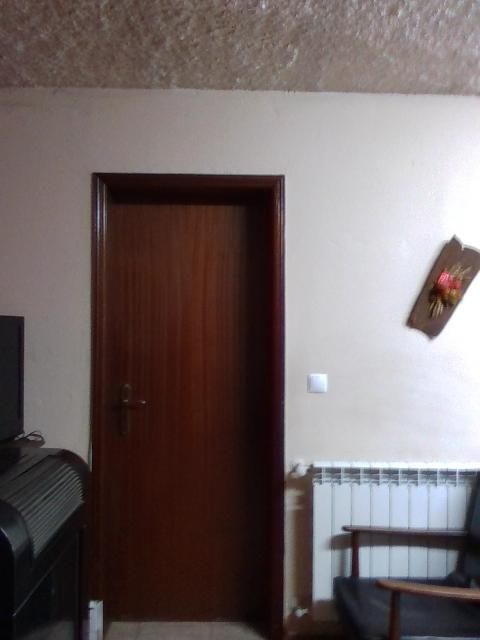door: (101, 188, 276, 625)
